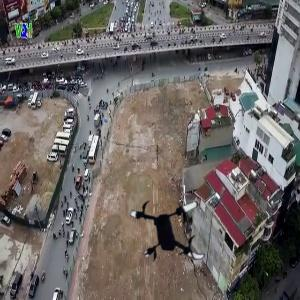drone: (130, 186, 218, 274)
